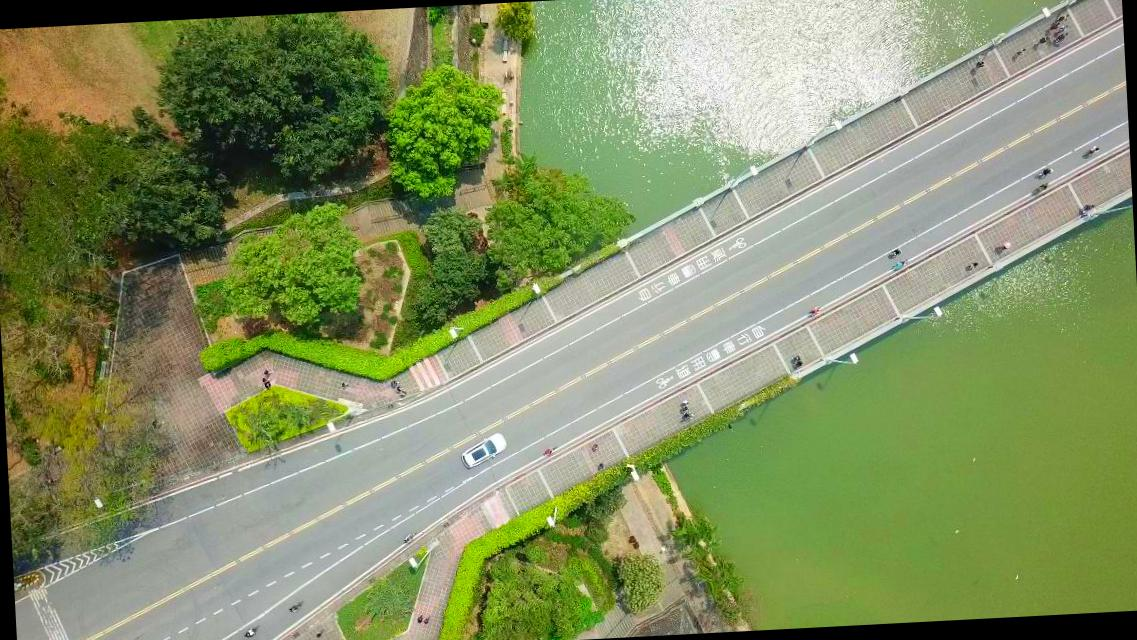vehicle: (458, 432, 506, 471)
